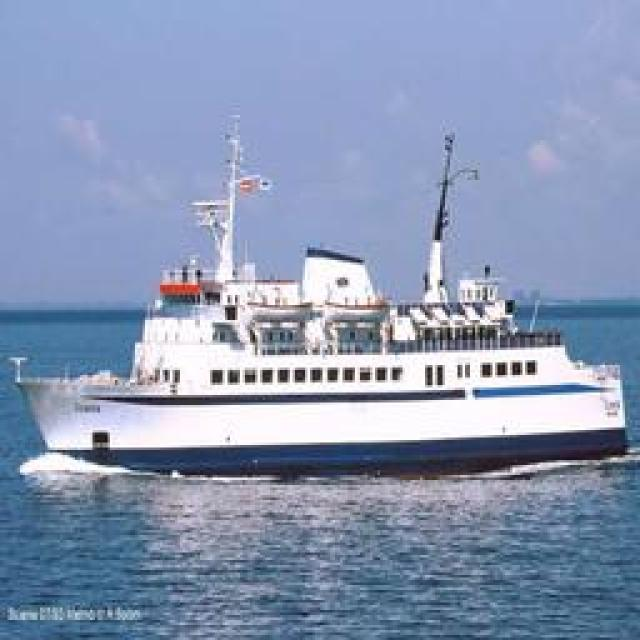Ship: (32, 115, 630, 465)
